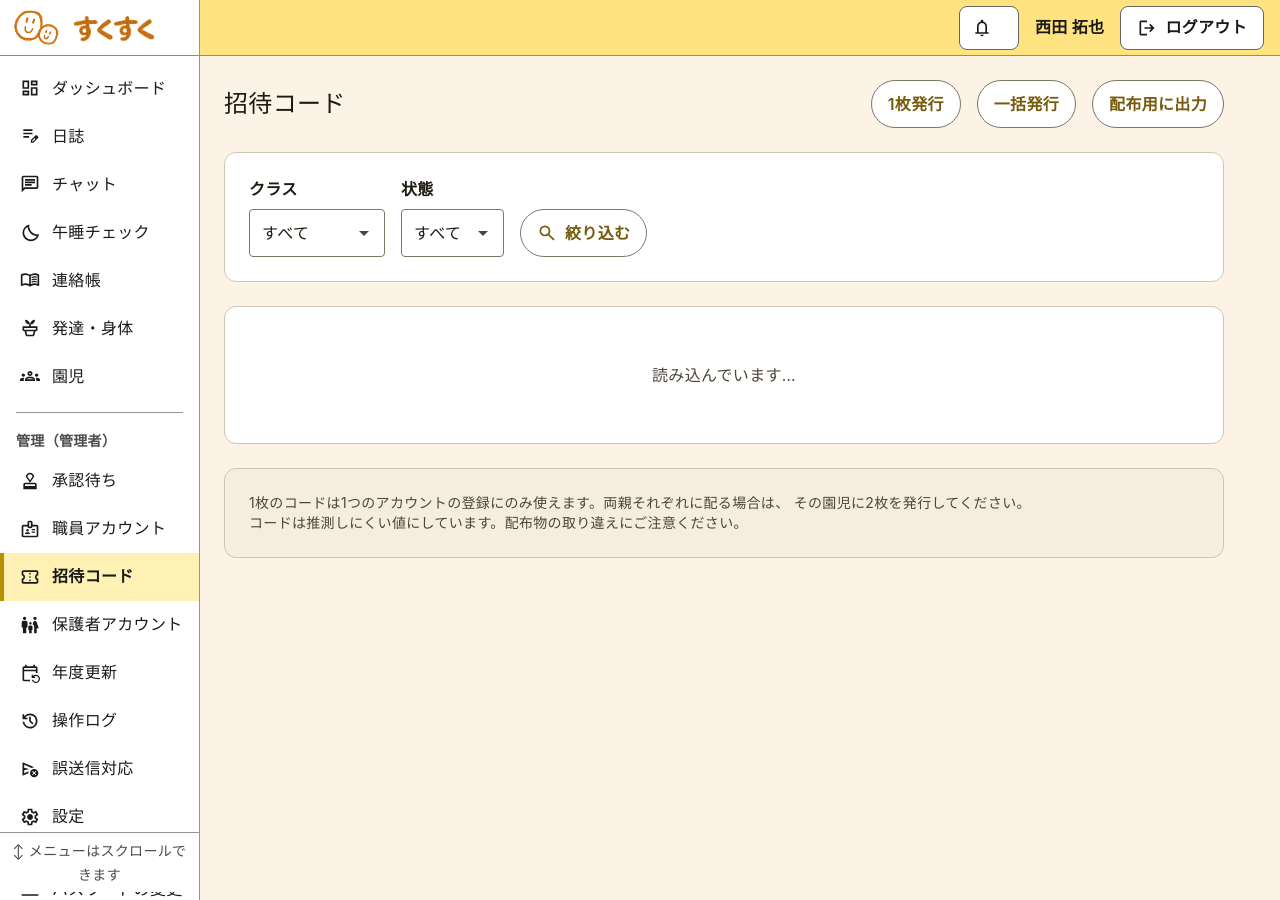
Scenario: 二重送信の防止（Issue #303） › 招待コードの1枚発行：発行している間は「発行する」を押せず、続けて押しても1枚だけ出す
This screenshot has width=1280, height=900.
Click the button "1枚発行": (916,104) [871,80,961,128]
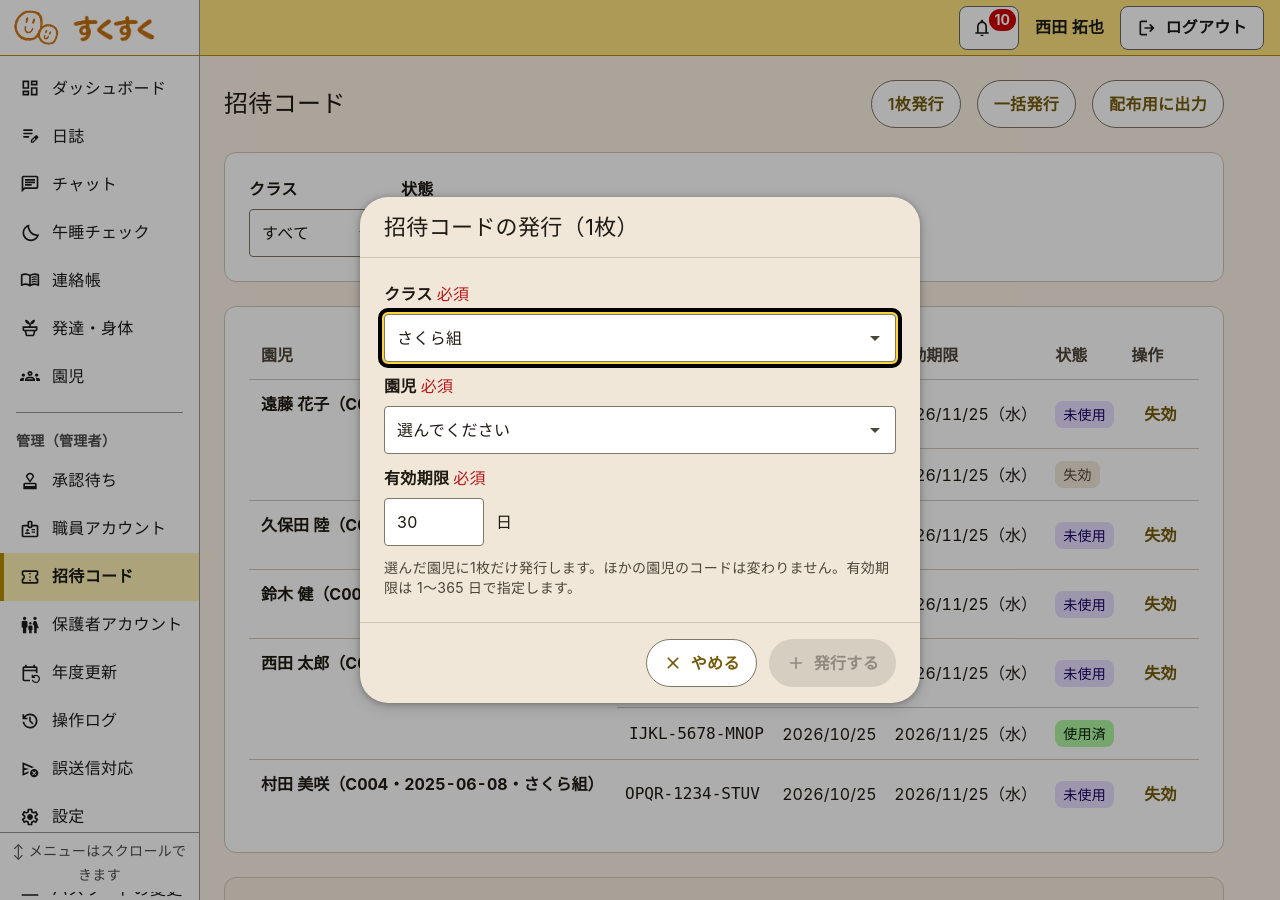
Select "伊藤 葵（C006・2025-04-30・さくら組）" in the dropdown labelled "園児": (640,430) [384,406,896,454]
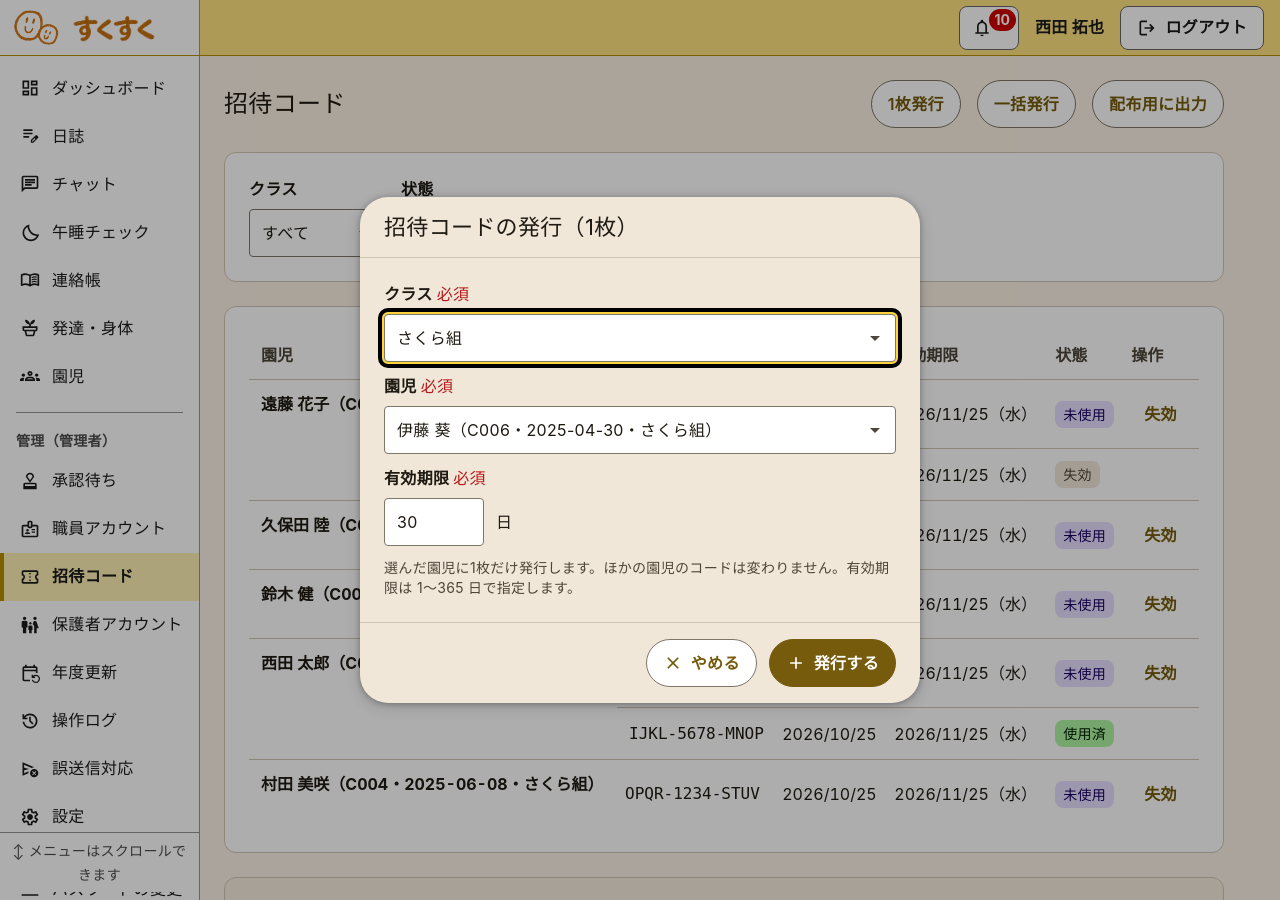
Click the button "発行する": (832,663) [769,639,896,687]
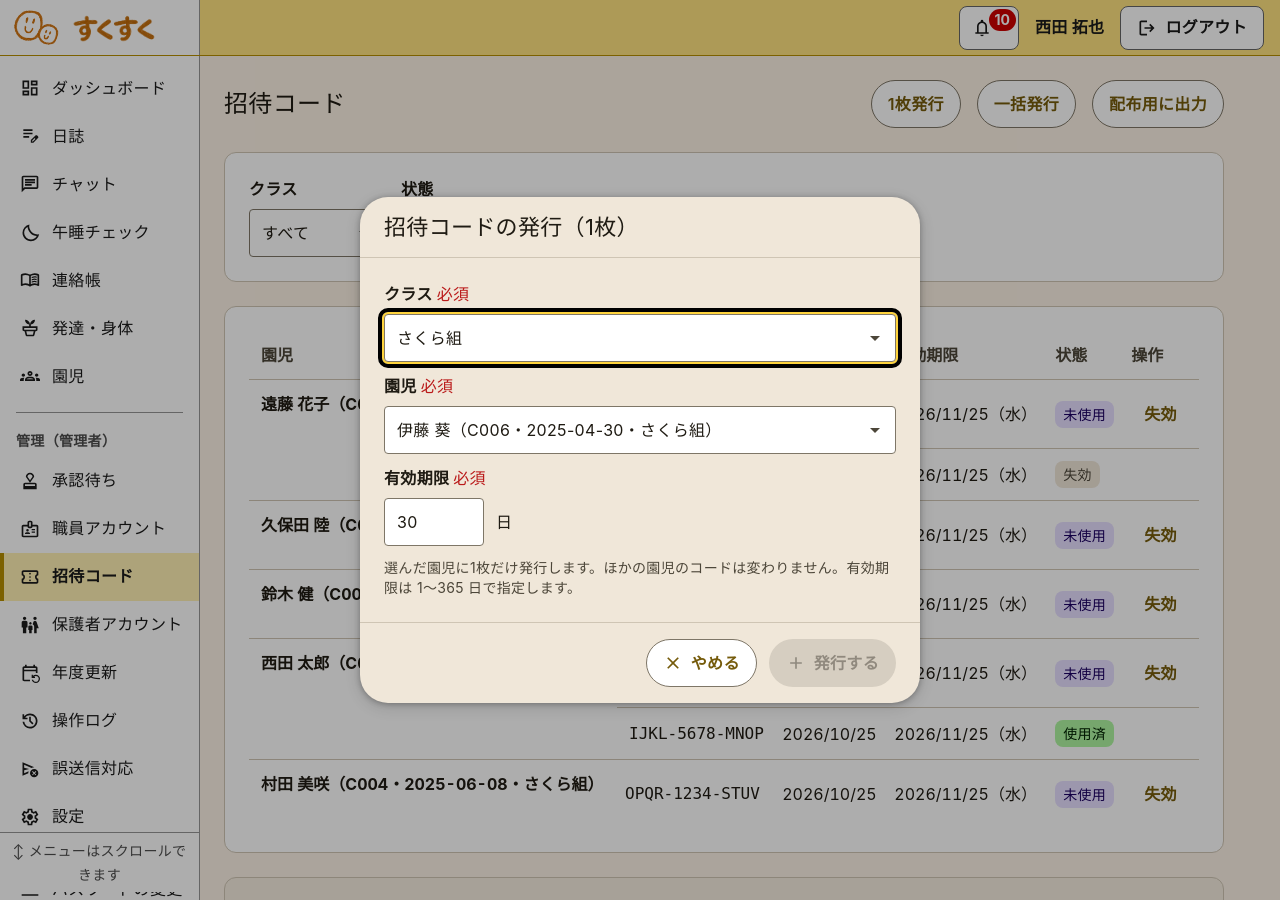
Click the button "発行する": (832,663) [769,639,896,687]
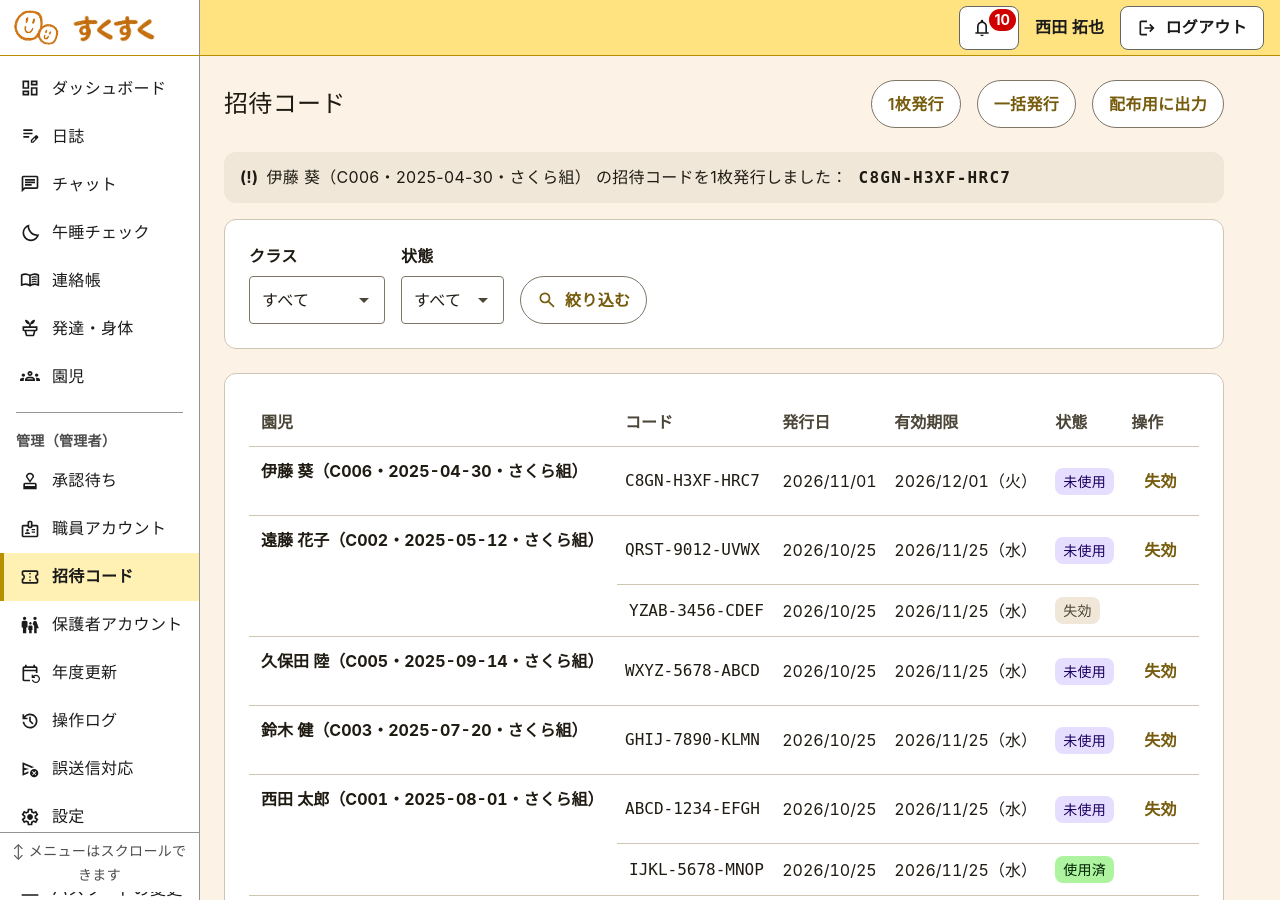
Now the text "の招待コードを1枚発行しました" is shown, box [591,167,848,187]
